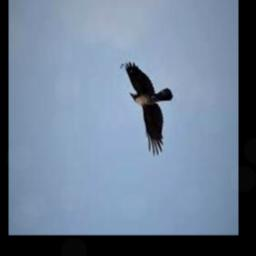Crow: (125, 62, 172, 156)
